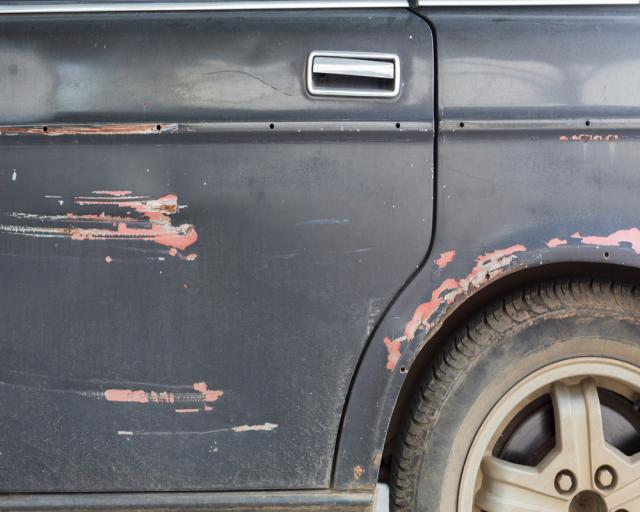scratch: (382, 212, 640, 374), (0, 370, 286, 446), (0, 184, 205, 261)
